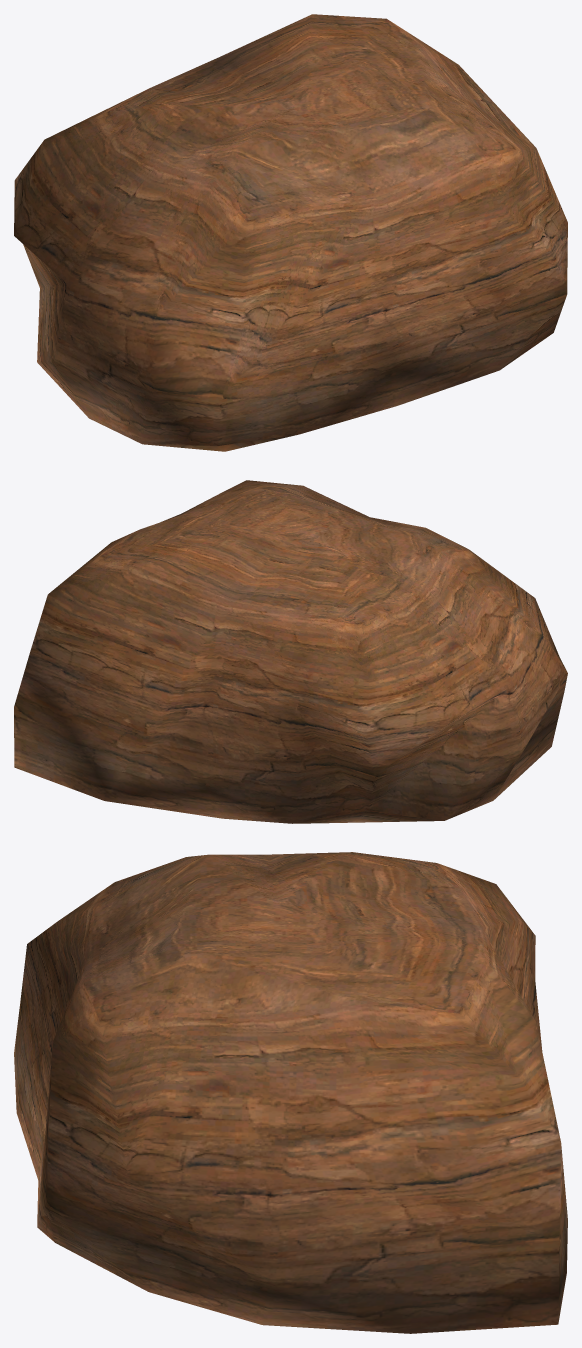
Rendered from rock_tatt_jundland_boulder_a2_l2.fbx.
3 renders of one model, top to bottom at view 1: azimuth 30°, elevation 25°; view 2: azimuth 150°, elevation 25°; view 3: azimuth 270°, elevation 25°, orthographic. The views are drawn at different scales.
Visible parts, largest first — view 1: mesh_node; view 2: mesh_node; view 3: mesh_node.
Part boxes in pixels (x1=…): mesh_node: x1=14, y1=14, x2=567, y2=451; mesh_node: x1=14, y1=480, x2=567, y2=823; mesh_node: x1=14, y1=852, x2=567, y2=1333.
Bounding box in the file's own units: 3.1 × 1.63 × 2.54.
